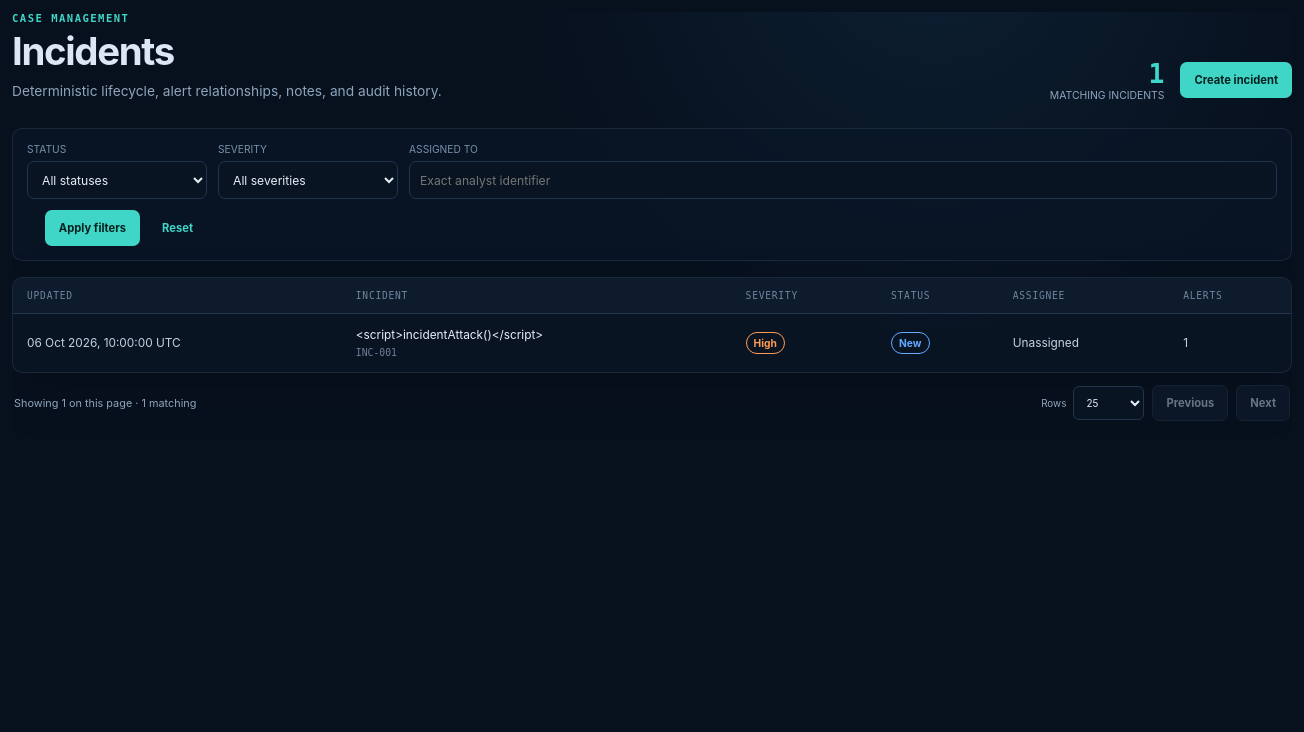
Test case: IncidentsPage › surfaces a backend authorization failure without pretending success
The image size is (1304, 732).
Click the button "<script>incidentAttack()</script>": {"x": 450, "y": 336} [356,328,543,342]
(page scrolled)
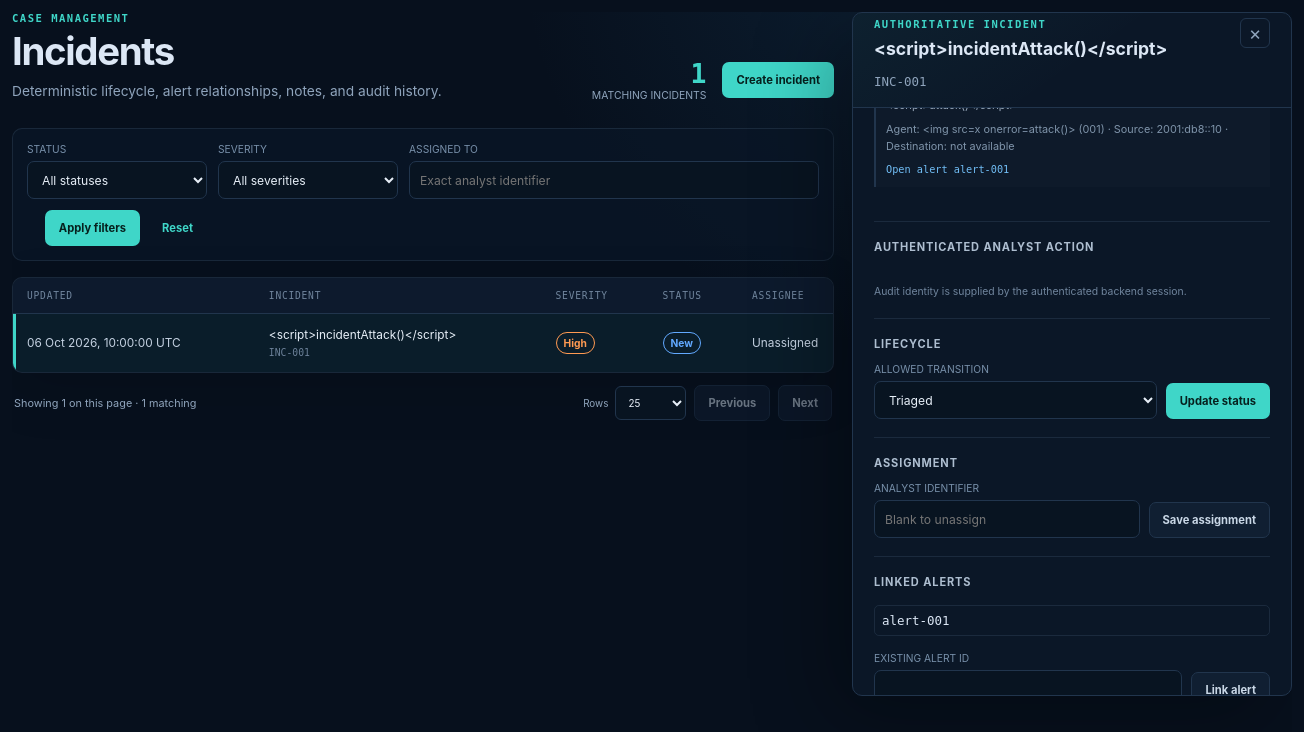
Click the button "Update status": {"x": 1218, "y": 401} [1166,383,1270,419]
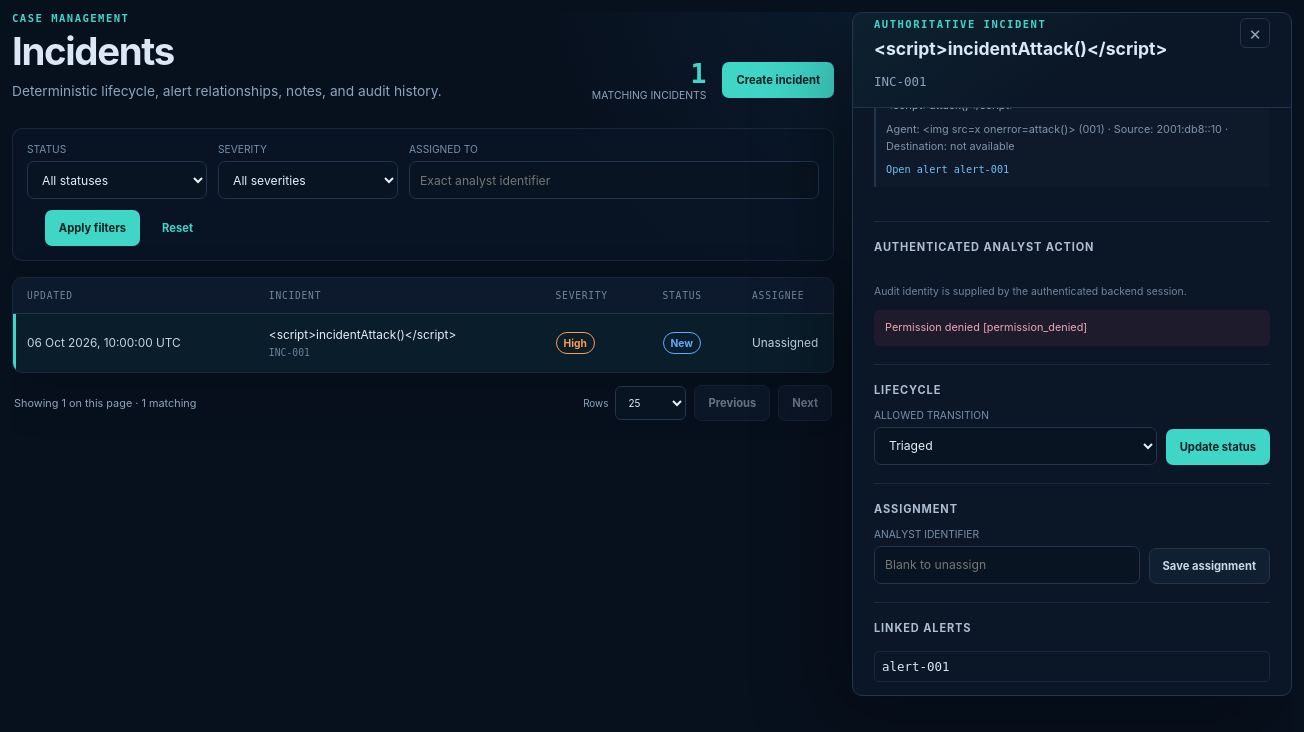
Now the text "Permission denied [permission_denied]" is shown, box [874,310,1270,346]
